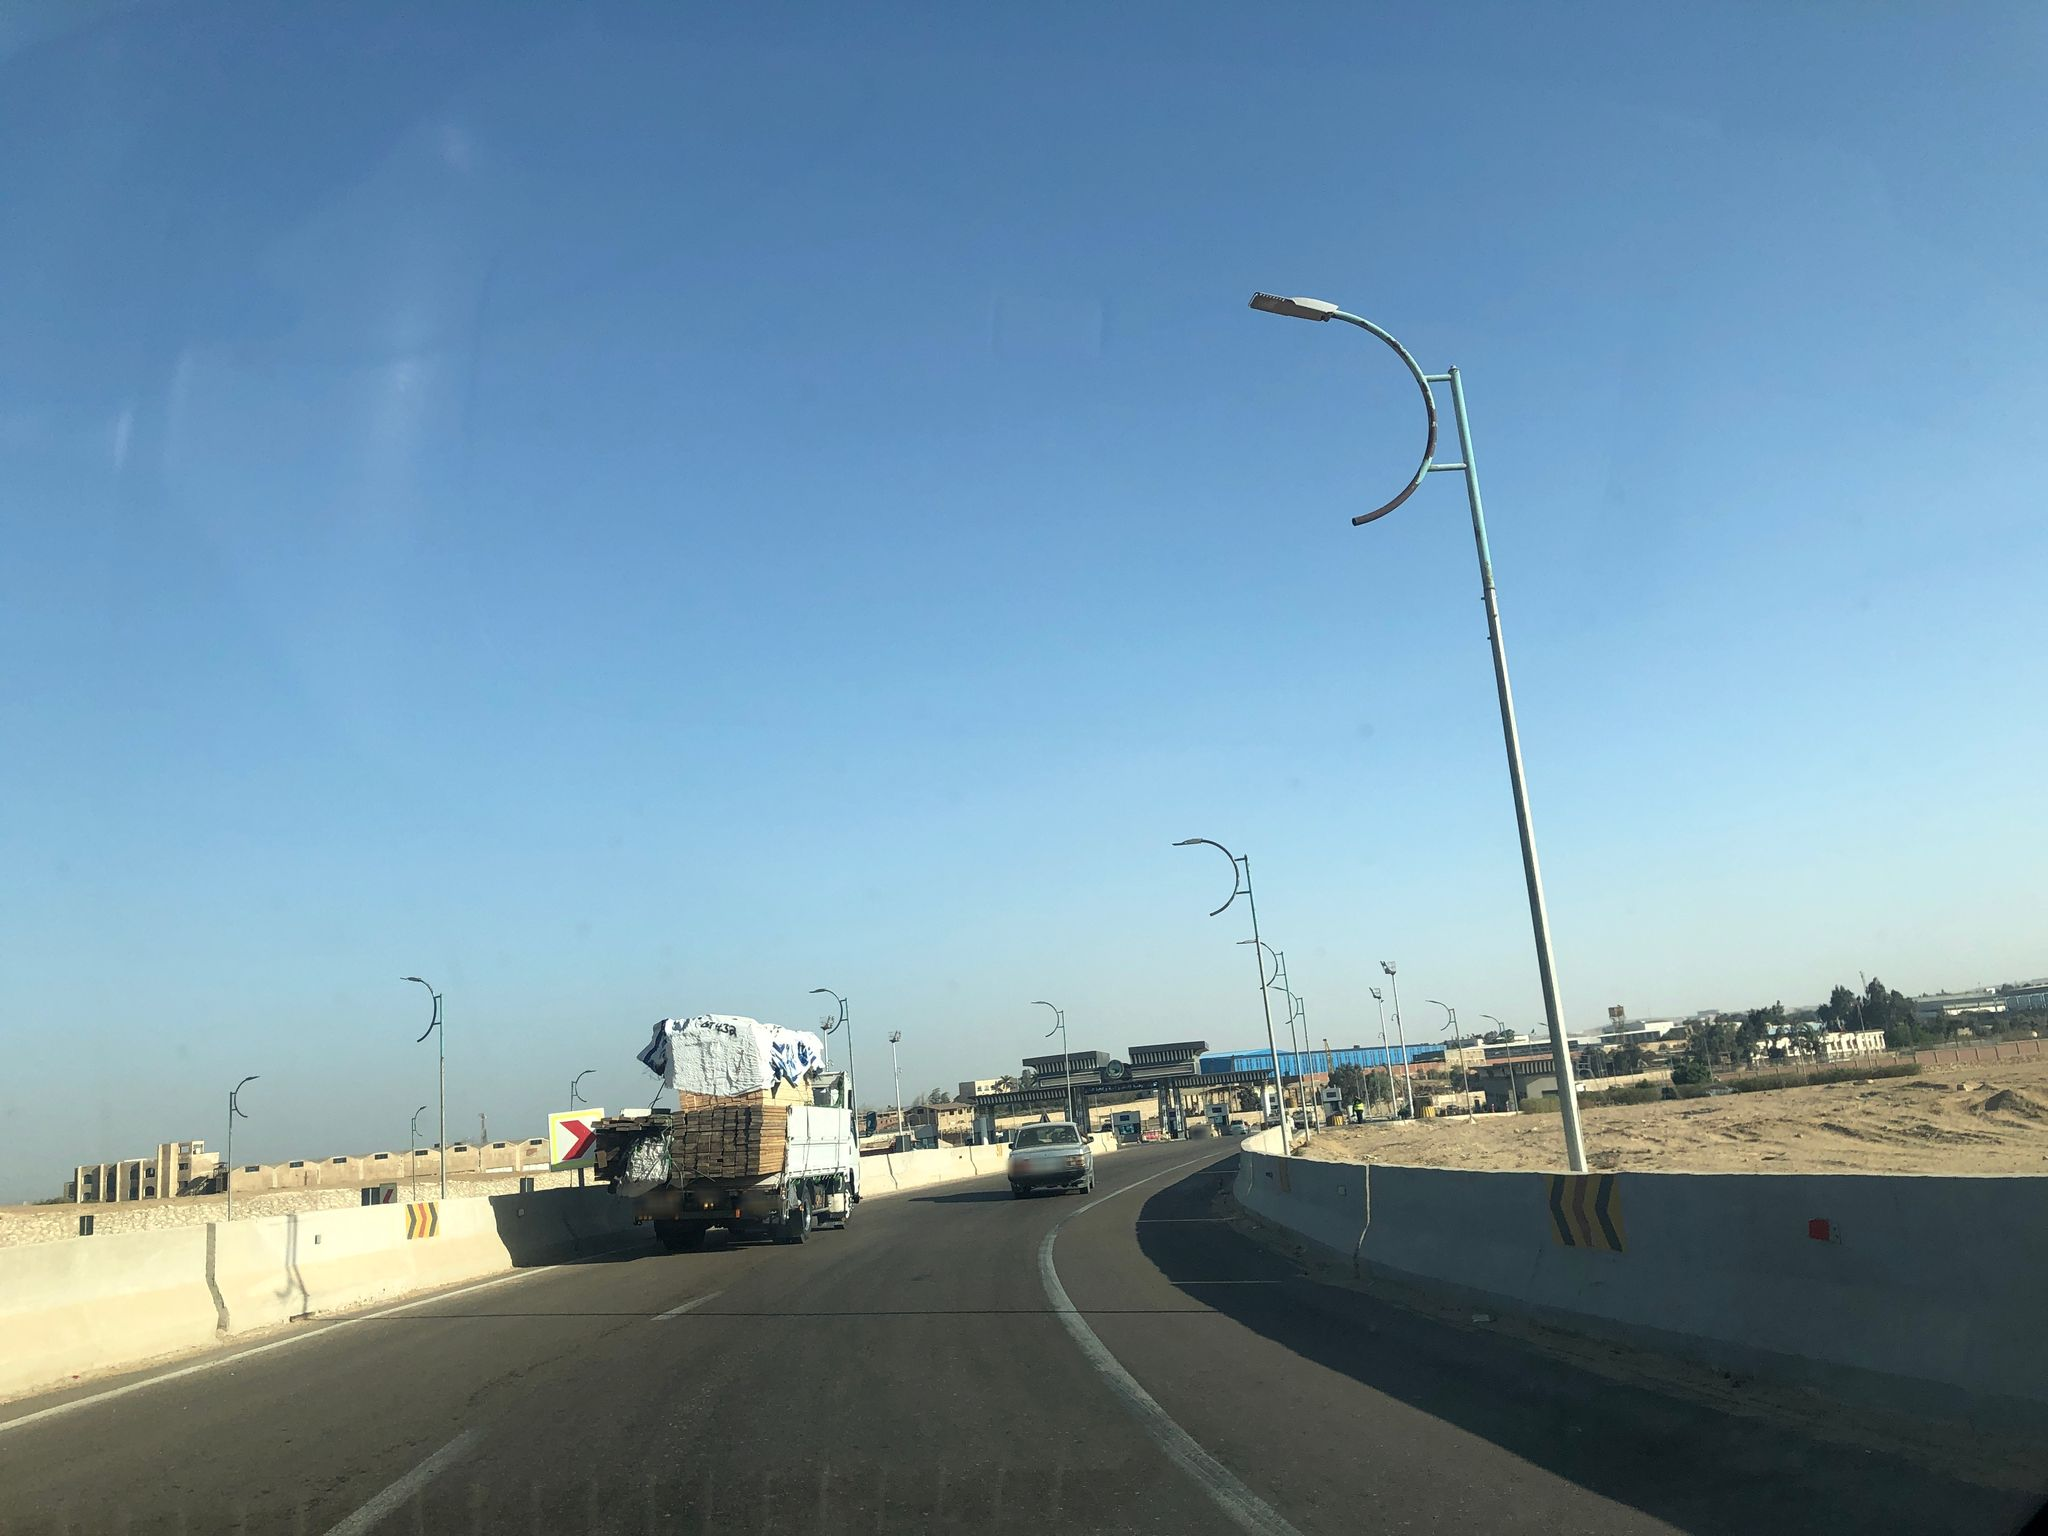car: (1006, 1121, 1097, 1194)
truck: (590, 1012, 861, 1249)
